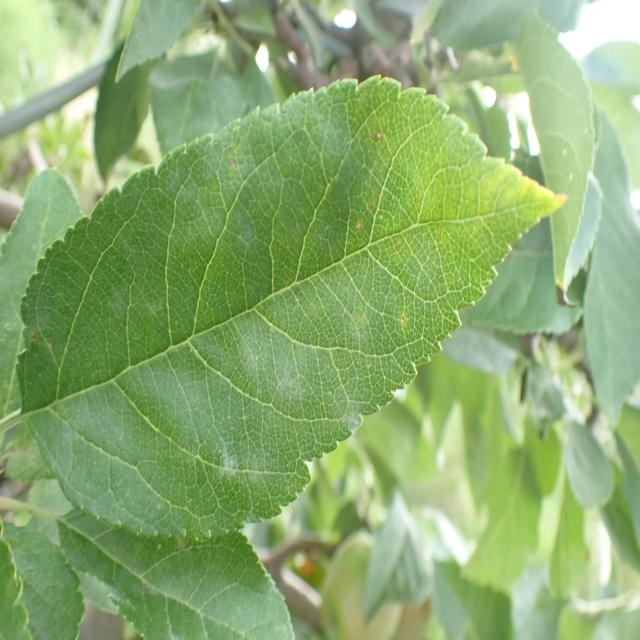Powdery_mildew: (0, 90, 558, 529)
